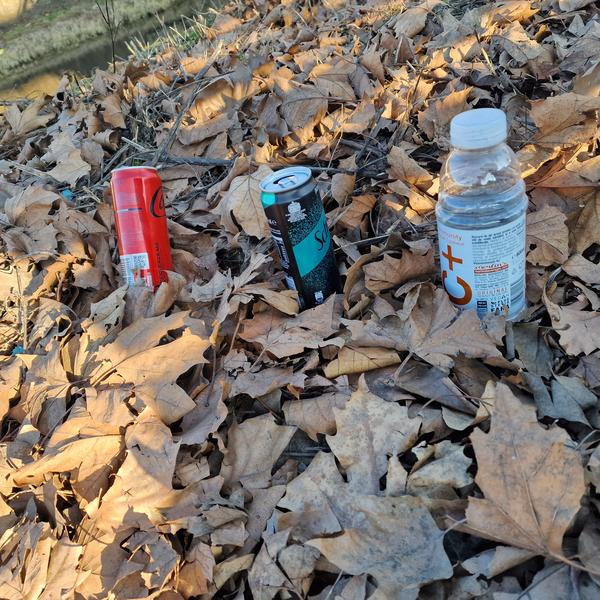can: (257, 161, 348, 311), (108, 161, 177, 298)
plastic_bottle: (435, 107, 527, 321)
